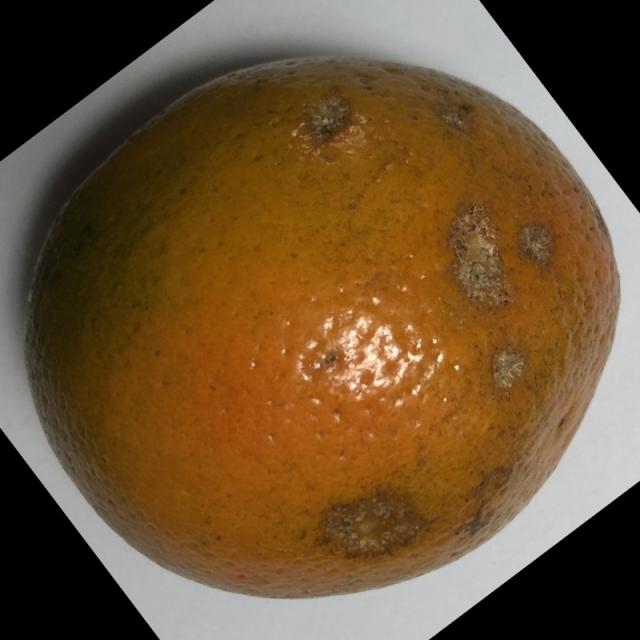canker: (18, 36, 639, 622)
